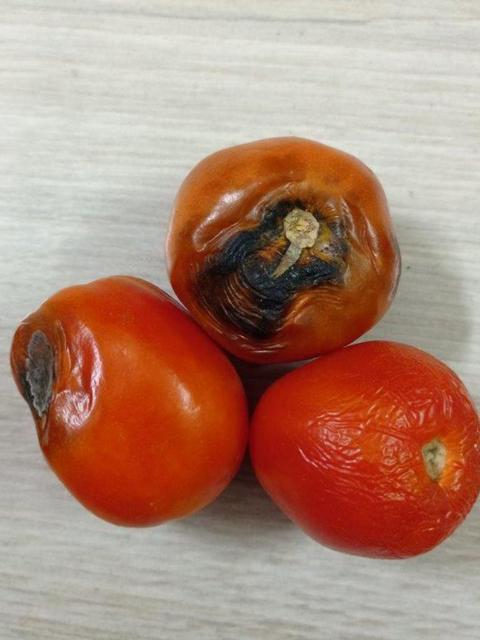defect: (165, 126, 404, 370), (6, 272, 161, 541), (260, 374, 479, 560)
